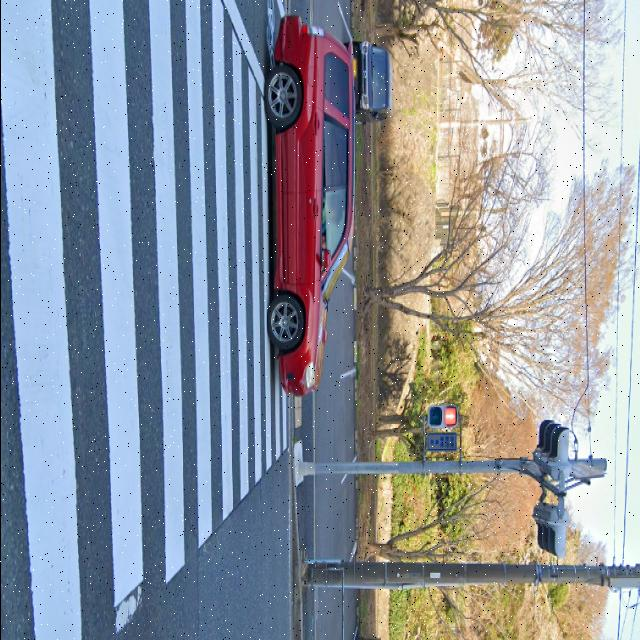traffic-light: (421, 395, 458, 435)
